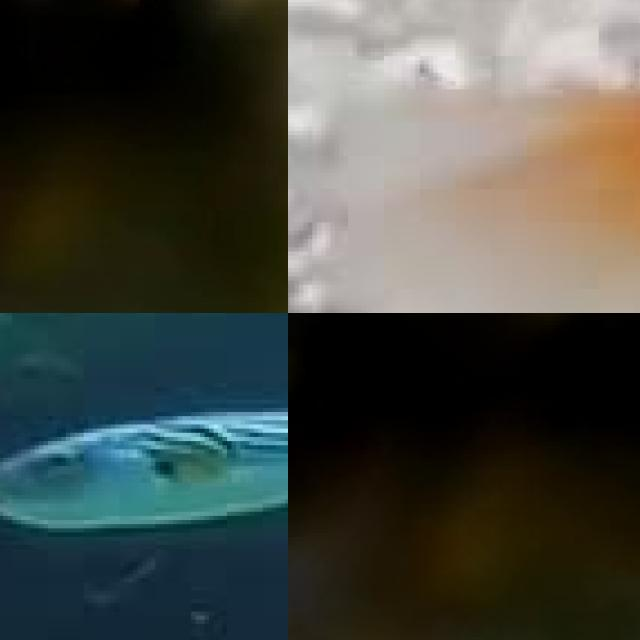fish: (0, 0, 288, 313), (406, 0, 640, 313)
